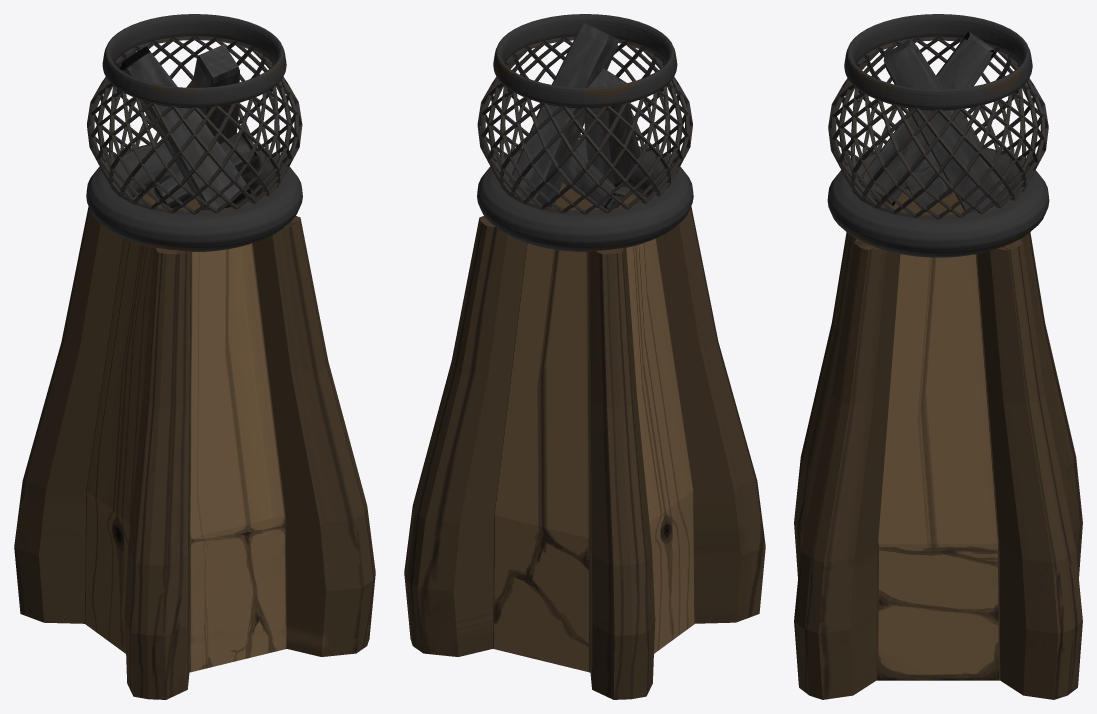
The model's file is Wind Waker Torch.fbx.
The picture shows the model from 3 angles, left to right: view 1: azimuth 30°, elevation 25°; view 2: azimuth 150°, elevation 25°; view 3: azimuth 270°, elevation 25°; orthographic projection. The views are drawn at different scales.
Parts seen in each view (by area): view 1: TorchBase, TorchCage, CharCoal; view 2: TorchBase, TorchCage, CharCoal; view 3: TorchBase, TorchCage, CharCoal.
Part boxes in pixels (x1=…): TorchBase: x1=14, y1=193, x2=375, y2=699; TorchCage: x1=86, y1=14, x2=302, y2=251; CharCoal: x1=116, y1=44, x2=261, y2=210; TorchBase: x1=404, y1=182, x2=765, y2=699; TorchCage: x1=477, y1=14, x2=693, y2=251; CharCoal: x1=509, y1=23, x2=640, y2=209; TorchBase: x1=794, y1=190, x2=1082, y2=699; TorchCage: x1=827, y1=14, x2=1049, y2=257; CharCoal: x1=858, y1=31, x2=1008, y2=212.
Bounding box in the file's own units: 237 × 545 × 237.
Materials: 3 (3 with a texture image).
